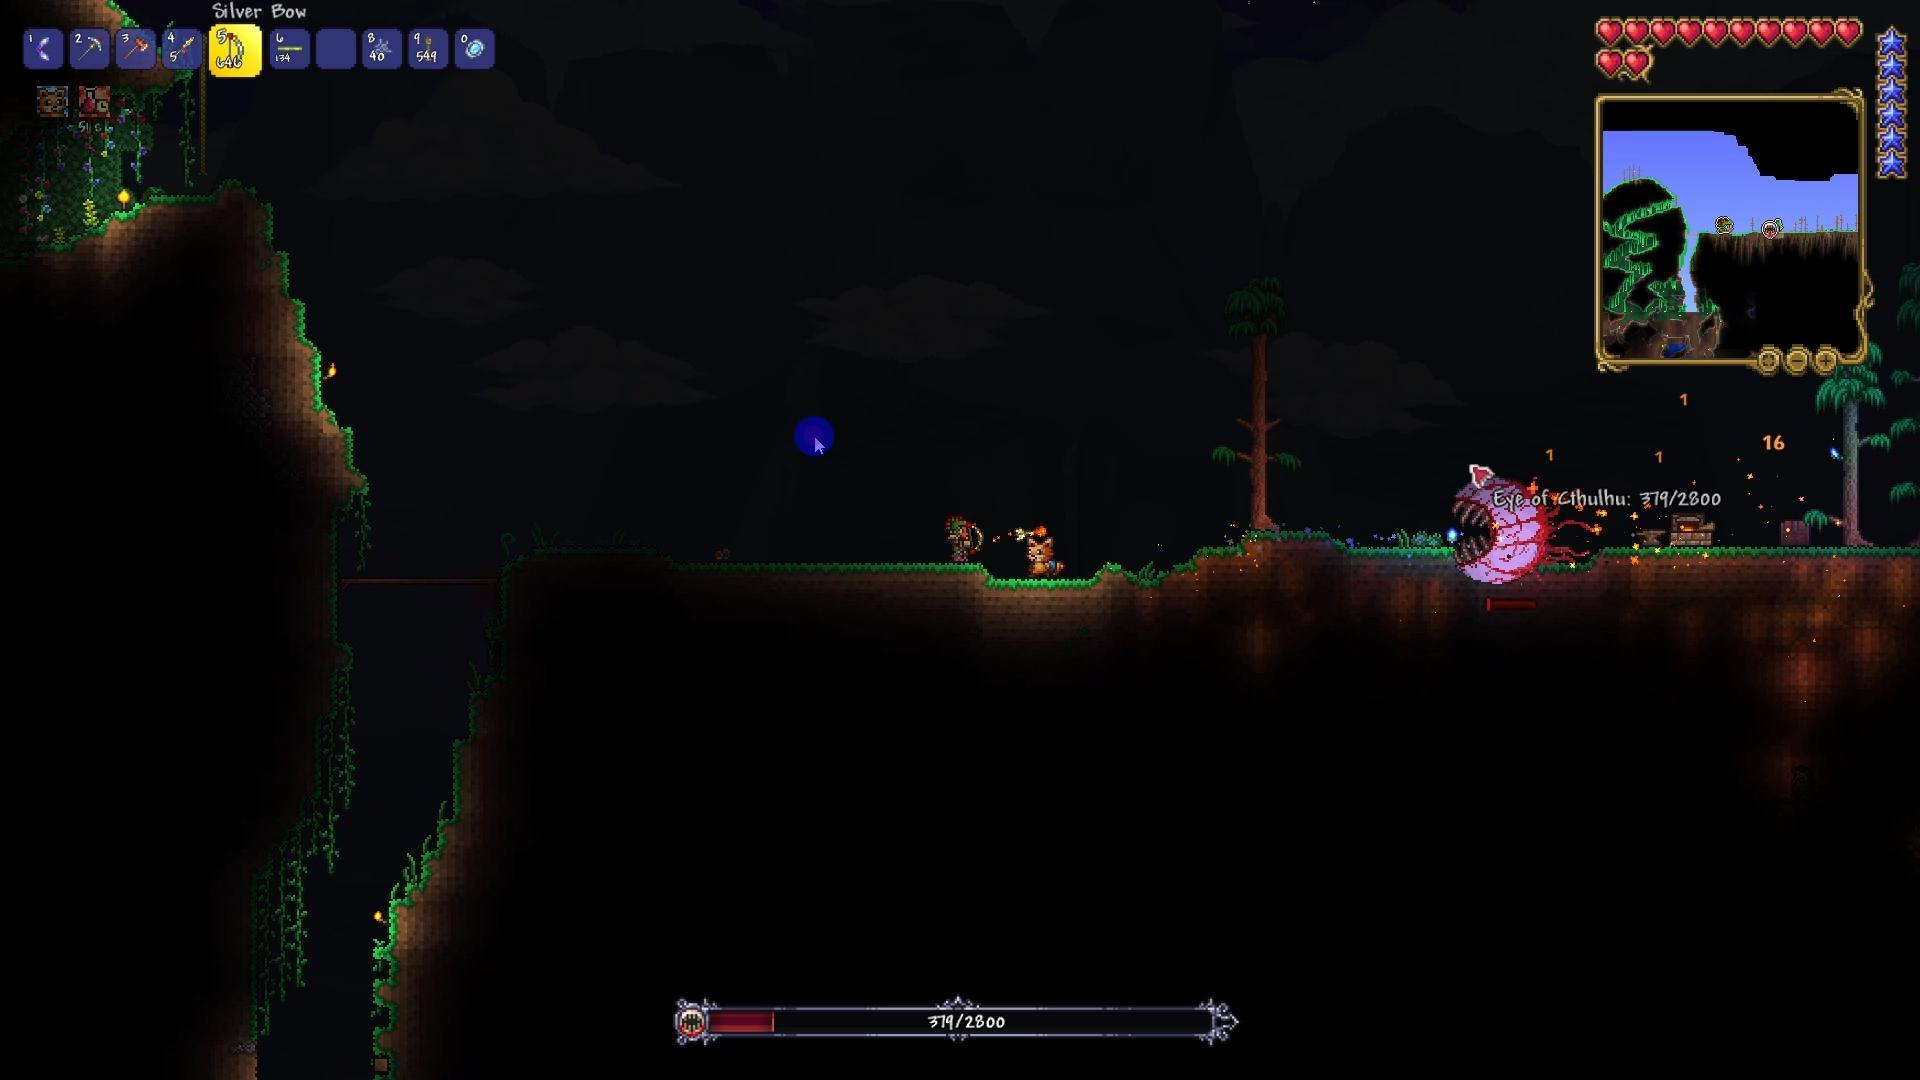dirt: (228, 174, 368, 492), (731, 553, 1222, 620), (385, 676, 502, 924), (0, 189, 223, 264), (315, 491, 352, 818), (1604, 541, 1915, 575), (1229, 524, 1441, 570)
